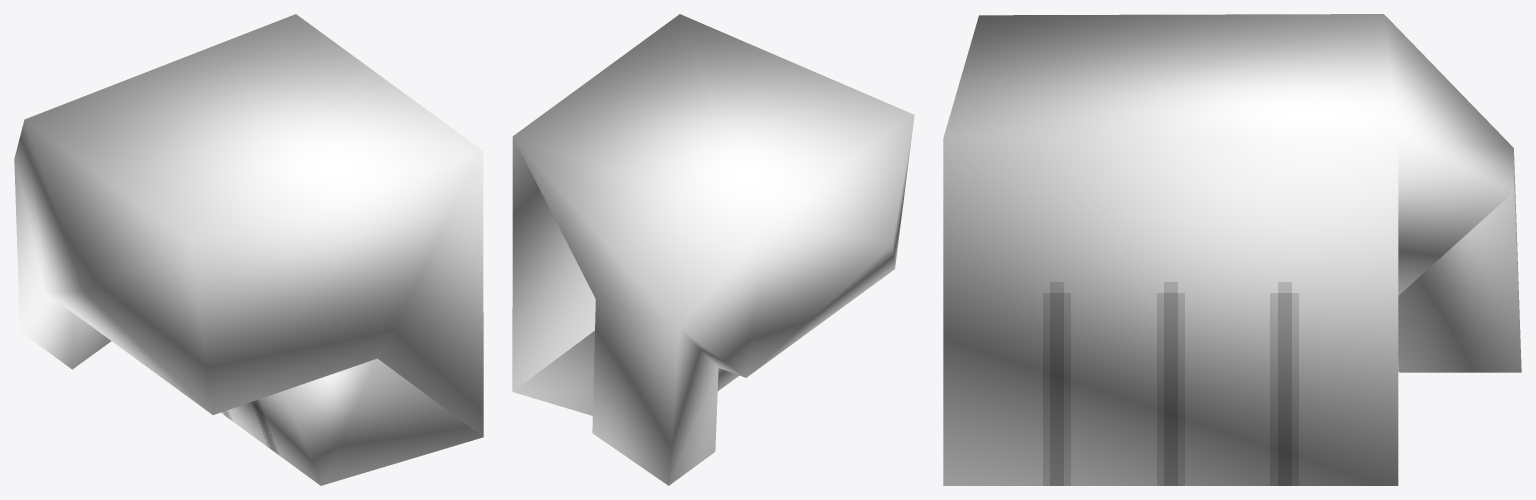
The model's file is RightHand.obj.
The picture shows the model from 3 angles, left to right: view 1: azimuth 30°, elevation 25°; view 2: azimuth 150°, elevation 25°; view 3: azimuth 270°, elevation 25°; orthographic projection. The views are drawn at different scales.
Visible parts, largest first — view 1: Object007; view 2: Object007; view 3: Object007.
Part boxes in pixels (x1,y1,x2,y2): Object007: (14,14,483,485); Object007: (512,14,914,485); Object007: (943,14,1521,485).
Bounding box in the file's own units: 1.91 × 1.71 × 2.46.
